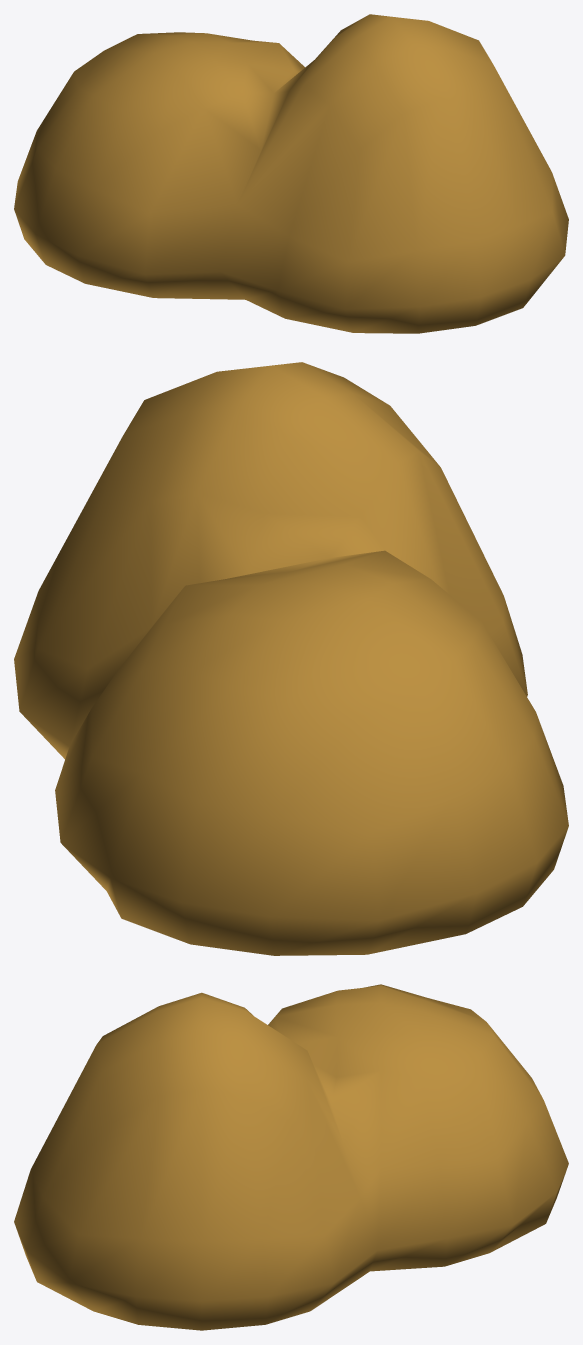
Rendered from seeds.fbx.
3 views of the same model, one above another, from view 1: azimuth 30°, elevation 25°; view 2: azimuth 150°, elevation 25°; view 3: azimuth 270°, elevation 25° (orthographic). The views are drawn at different scales.
Visible parts, largest first — view 1: seeds; view 2: seeds; view 3: seeds.
Boxes of the visible parts, x1,y1,x2,y2 form: seeds: (14, 14, 568, 333); seeds: (14, 362, 568, 955); seeds: (14, 984, 568, 1330).
Size of the model in its own units: 42.26 by 24.72 by 45.68.
